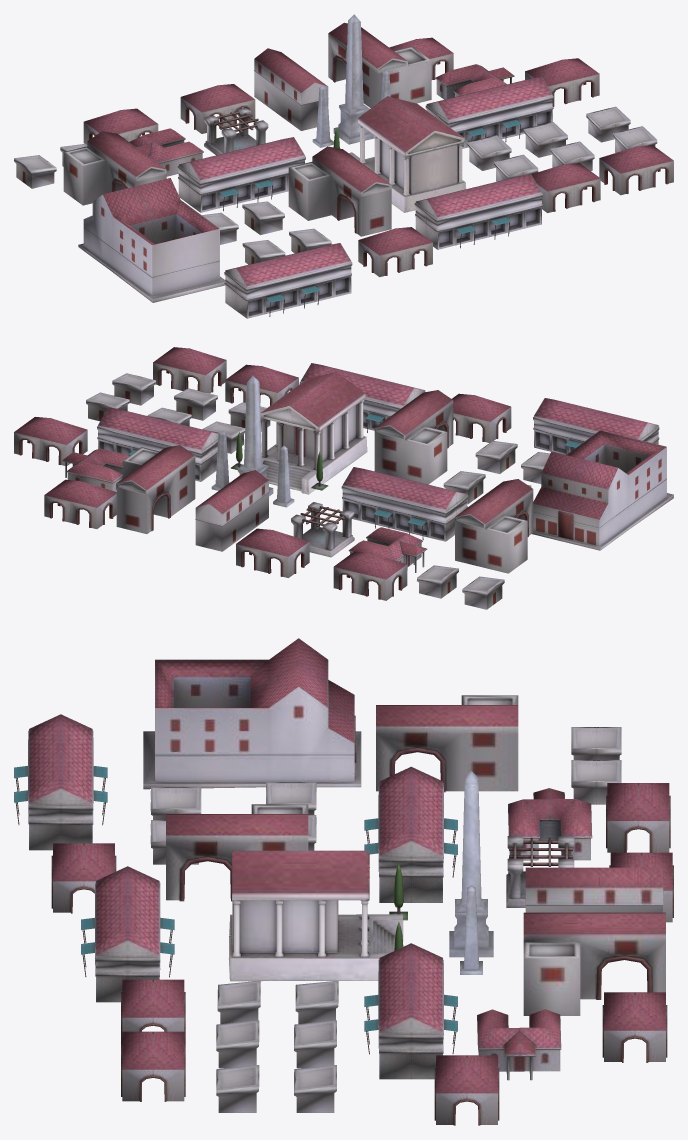
File: city_roman_2.glb
The picture shows the model from 3 angles, top to bottom: view 1: azimuth 30°, elevation 25°; view 2: azimuth 150°, elevation 25°; view 3: azimuth 270°, elevation 25°; orthographic projection. The views are drawn at different scales.
Visible parts, largest first — view 1: low..036, low.060, low..057, low..052, low.059, low..034, low..037, low.055, low.057, low.056, Cube.003, low..058 (+20 smaller); view 2: low..036, low.060, low..034, low.059, low.055, low.057, low..037, low.056, low..057, Cube.003, low..052, low..051 (+21 smaller); view 3: low..036, low.060, low.057, low.055, low..037, low..057, low..034, low..052, low.059, low.056, Cube.003, low.058 (+19 smaller).
Part boxes in pixels (left/top/right/bottom): low..036: left=78, top=178, right=225, bottom=302; low.060: left=349, top=96, right=466, bottom=212; low..057: left=224, top=243, right=352, bottom=318; low..052: left=414, top=174, right=542, bottom=249; low.059: left=288, top=146, right=391, bottom=236; low..034: left=177, top=137, right=305, bottom=212; low..037: left=425, top=76, right=553, bottom=148; low.055: left=63, top=131, right=166, bottom=205; low.057: left=328, top=22, right=431, bottom=108; low.056: left=254, top=48, right=328, bottom=130; Cube.003: left=312, top=14, right=390, bottom=147; low..058: left=358, top=227, right=432, bottom=277; low..036: left=532, top=430, right=673, bottom=550; low.060: left=260, top=371, right=367, bottom=494; low..034: left=341, top=467, right=468, bottom=541; low.059: left=374, top=390, right=453, bottom=484; low.055: left=455, top=479, right=533, bottom=573; low.057: left=116, top=445, right=195, bottom=533; low..037: left=97, top=407, right=218, bottom=481; low.056: left=195, top=470, right=268, bottom=551; low..057: left=533, top=398, right=659, bottom=454; Cube.003: left=211, top=376, right=294, bottom=507; low..052: left=299, top=363, right=425, bottom=432; low..051: left=333, top=551, right=407, bottom=600; low..036: left=143, top=638, right=361, bottom=789; low.060: left=228, top=850, right=403, bottom=981; low.057: left=523, top=912, right=665, bottom=1015; low.055: left=376, top=695, right=518, bottom=792; low..037: left=364, top=943, right=457, bottom=1079; low..057: left=14, top=714, right=107, bottom=850; low..034: left=364, top=766, right=457, bottom=902; low..052: left=81, top=866, right=174, bottom=1002; low.059: left=166, top=804, right=308, bottom=901; low.056: left=525, top=867, right=663, bottom=912; Cube.003: left=449, top=771, right=493, bottom=974; low.058: left=477, top=1009, right=561, bottom=1080.
Size of the model in its own units: 24.47 by 5.58 by 17.48.
6 materials, 6 textured.
